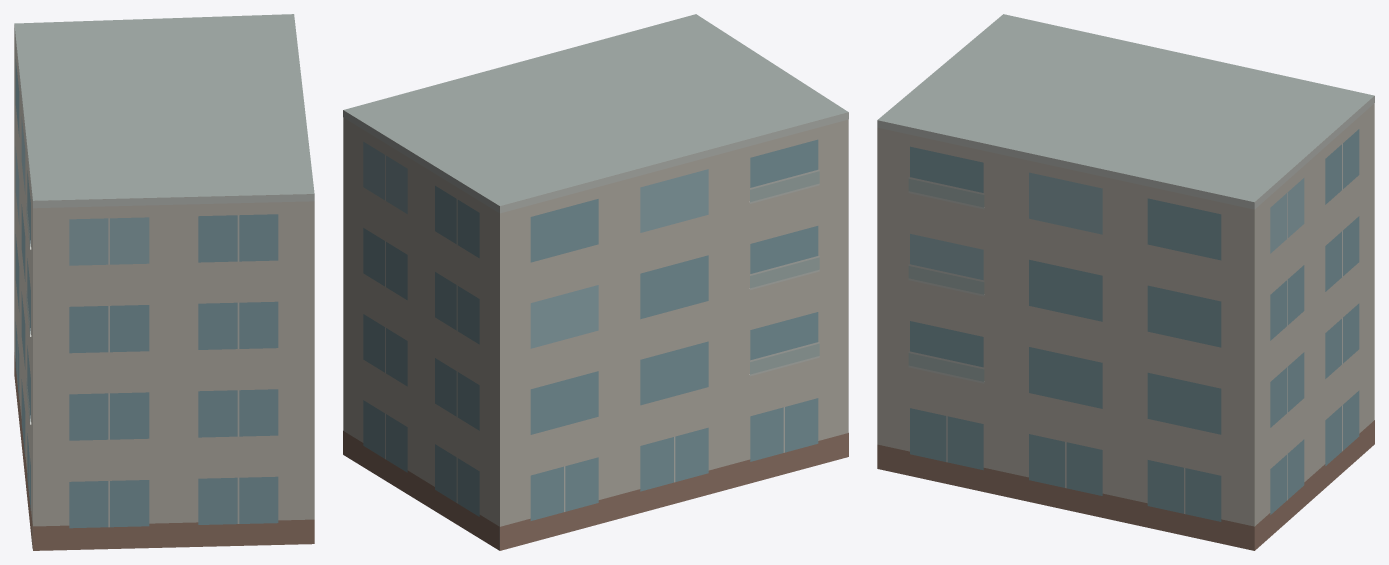
File: survey-upis-32725431.glb
3 views of the same model, side by side, from view 1: azimuth 30°, elevation 25°; view 2: azimuth 150°, elevation 25°; view 3: azimuth 270°, elevation 25° (orthographic).
Visible parts, largest first — view 1: survey-upis-32725431.tmp; view 2: survey-upis-32725431.tmp; view 3: survey-upis-32725431.tmp.
Part boxes in pixels (left/top/right/bottom): survey-upis-32725431.tmp: left=14, top=14, right=314, bottom=550; survey-upis-32725431.tmp: left=343, top=14, right=848, bottom=550; survey-upis-32725431.tmp: left=877, top=14, right=1374, bottom=550.
Size of the model in its own units: 13.32 by 11.5 by 14.88.
